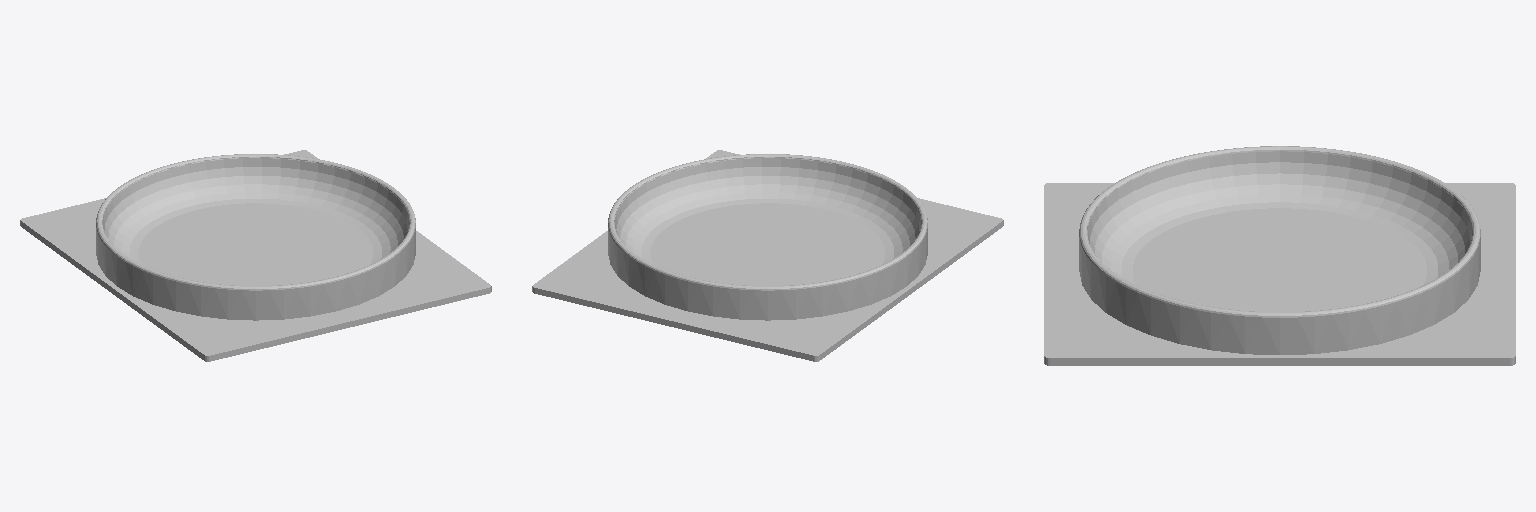
The robot description file, URDF, robot "stage":
<?xml version="1.0" ?>
<!-- =================================================================================== -->
<!-- |    This document was autogenerated by xacro from robot_properties_fingers/xacro/stage.urdf.xacro | -->
<!-- |    EDITING THIS FILE BY HAND IS NOT RECOMMENDED                                 | -->
<!-- =================================================================================== -->
<robot name="stage">
  <material name="stage_material">
    <color rgba="0.8 0.8 0.8 1.0"/>
  </material>
  <!-- add the "stage" -->
  <link name="stage_link">
    <visual>
      <origin rpy="0 0 0" xyz="0 0 0"/>
      <geometry>
        <mesh filename="package://robot_properties_fingers/meshes/Stage_simplified.stl" scale="1 1 1"/>
      </geometry>
      <material name="stage_material"/>
    </visual>
    <collision>
      <origin rpy="0 0 0" xyz="0 0 0"/>
      <geometry>
        <mesh filename="package://robot_properties_fingers/meshes/Stage_simplified.stl" scale="1 1 1"/>
      </geometry>
    </collision>
    <inertial>
      <origin rpy="0 0 0" xyz="0 0 0"/>
      <mass value="1"/>
      <inertia ixx="0.007708333333333333" ixy="0" ixz="0" iyy="0.007708333333333333" iyz="0" izz="0.015"/>
    </inertial>
  </link>
</robot>

--- Facts derived from the render (not from the file) ---
3 views of the same robot in one strip: view 1: azimuth 30°, elevation 25°; view 2: azimuth 150°, elevation 25°; view 3: azimuth 270°, elevation 25° (orthographic).
Model stage with 1 links and 0 joints (none), rooted at stage_link, posed all joints at 0.
Links seen in each view (by area): view 1: stage_link; view 2: stage_link; view 3: stage_link.
Link boxes in pixels (left/top/right/bottom): stage_link: left=20, top=150, right=491, bottom=361; stage_link: left=532, top=150, right=1003, bottom=361; stage_link: left=1044, top=146, right=1515, bottom=365.
Bounding box of the posed robot: 0.6 × 0.68 × 0.077 m (x, y, z).
Meshes: 1 distinct files referenced, 1 mesh visuals loaded (1 binary STL).
